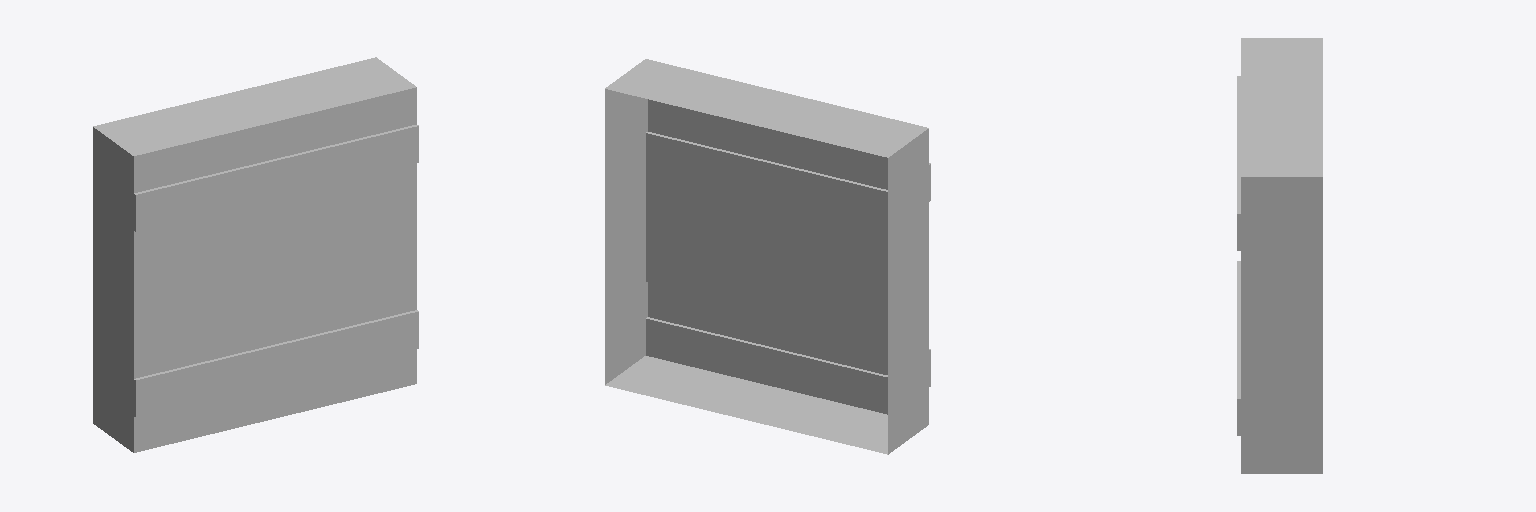
Rendered from track-straight-small.obj.
3 views of the same model, side by side, from view 1: azimuth 30°, elevation 25°; view 2: azimuth 150°, elevation 25°; view 3: azimuth 270°, elevation 25° (orthographic).
Visible parts, largest first — view 1: track-straight-small_Cube.569; view 2: track-straight-small_Cube.569; view 3: track-straight-small_Cube.569.
Boxes of the visible parts, x1=… form: track-straight-small_Cube.569: x1=93, y1=57, x2=418, y2=452; track-straight-small_Cube.569: x1=605, y1=59, x2=930, y2=454; track-straight-small_Cube.569: x1=1237, y1=38, x2=1322, y2=473.
Bounding box in the file's own units: 8 × 8 × 2.1.